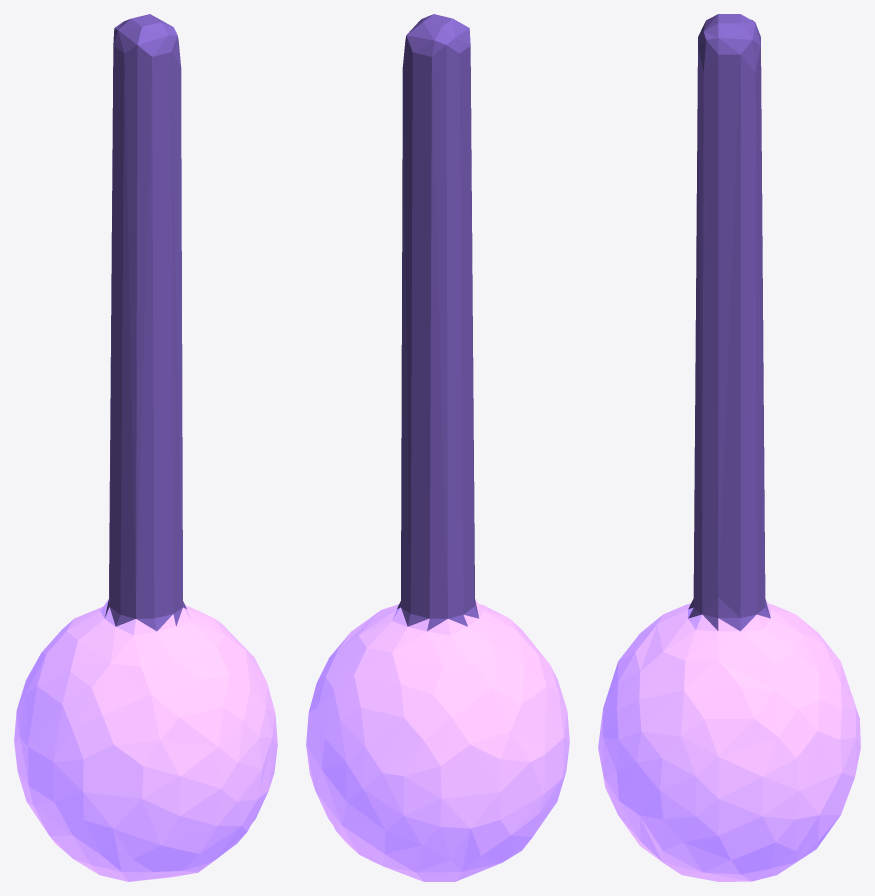
The model's file is spirit_bell_tongue.glb.
3 views of the same model, side by side, from view 1: azimuth 30°, elevation 25°; view 2: azimuth 150°, elevation 25°; view 3: azimuth 270°, elevation 25° (orthographic).
Parts seen in each view (by area): view 1: spirit_bell_tongue; view 2: spirit_bell_tongue; view 3: spirit_bell_tongue.
Boxes of the visible parts, x1,y1,x2,y2 form: spirit_bell_tongue: (14,14,277,881); spirit_bell_tongue: (306,14,569,881); spirit_bell_tongue: (598,14,860,881).
Bounding box in the file's own units: 0.1775 × 0.6381 × 0.1782.
